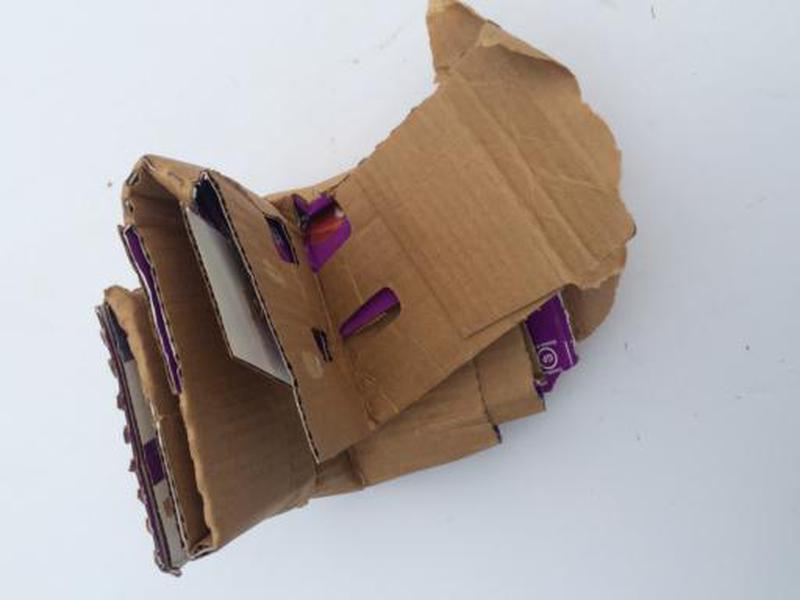cardboard: (85, 1, 642, 580)
